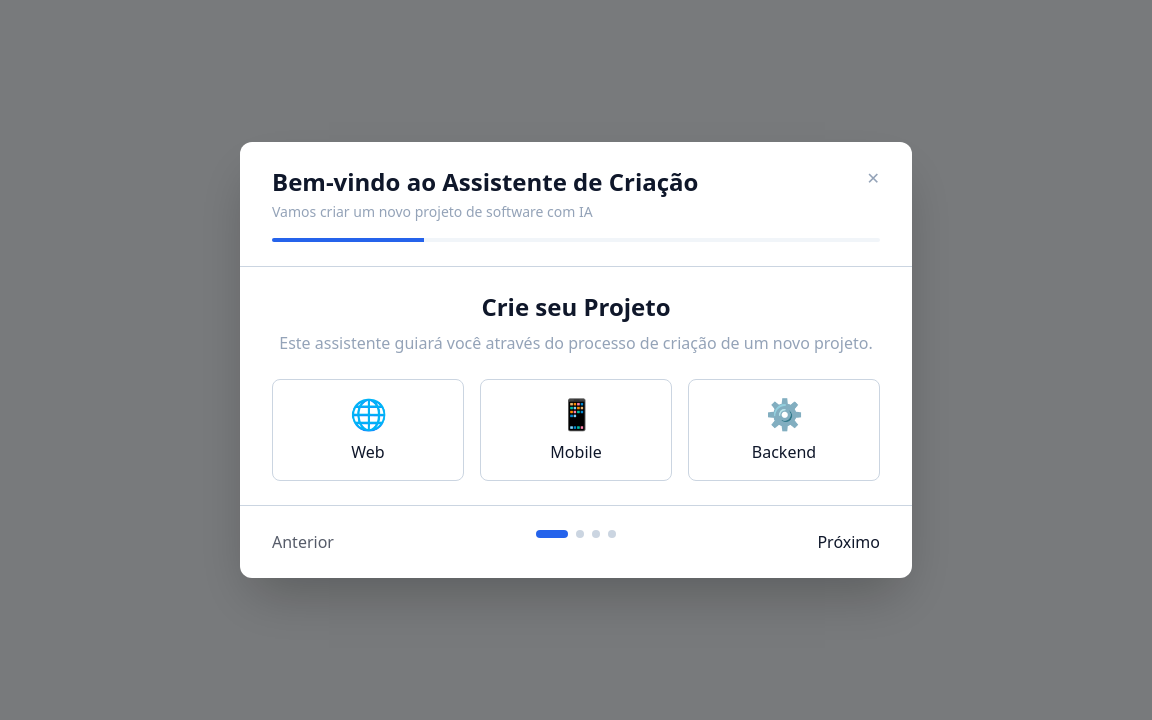
ProjectWizardRefactored › navigates back when clicking Anterior
Click the button "Próximo". click: (849, 542)
box: x1=817 y1=530 x2=880 y2=554
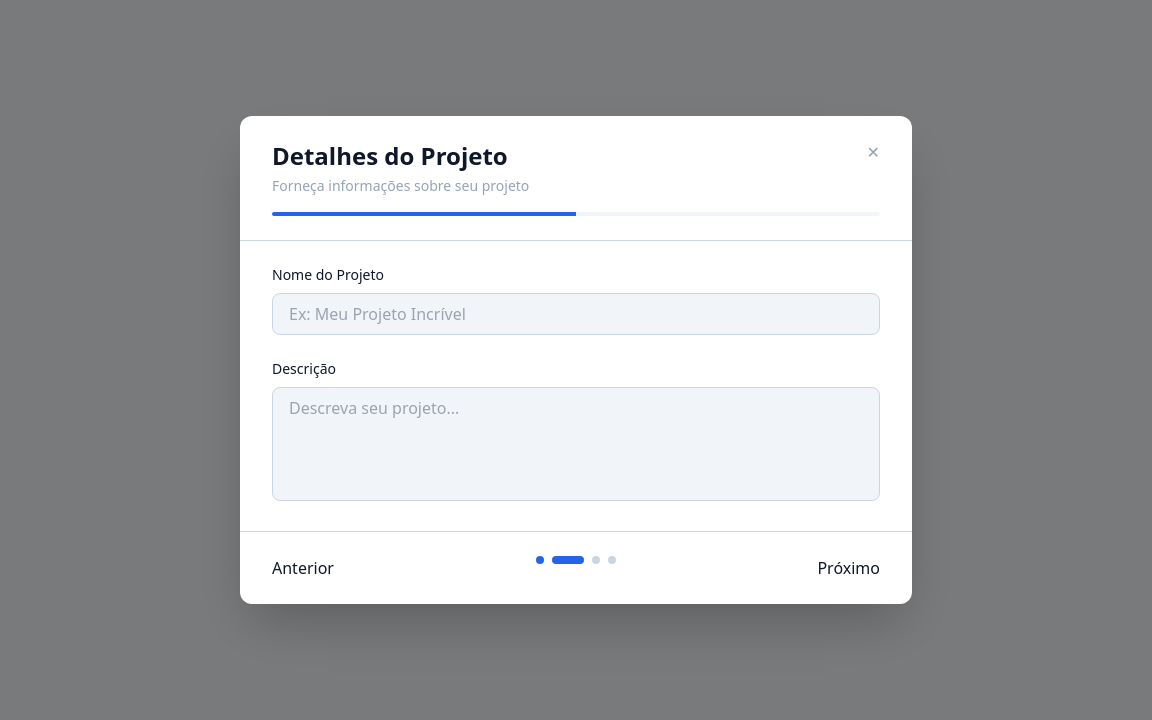
Check: the heading "Detalhes do Projeto" is shown, box x1=272 y1=140 x2=529 y2=172
Click the button "Anterior". click: (303, 568)
box: x1=272 y1=556 x2=334 y2=580
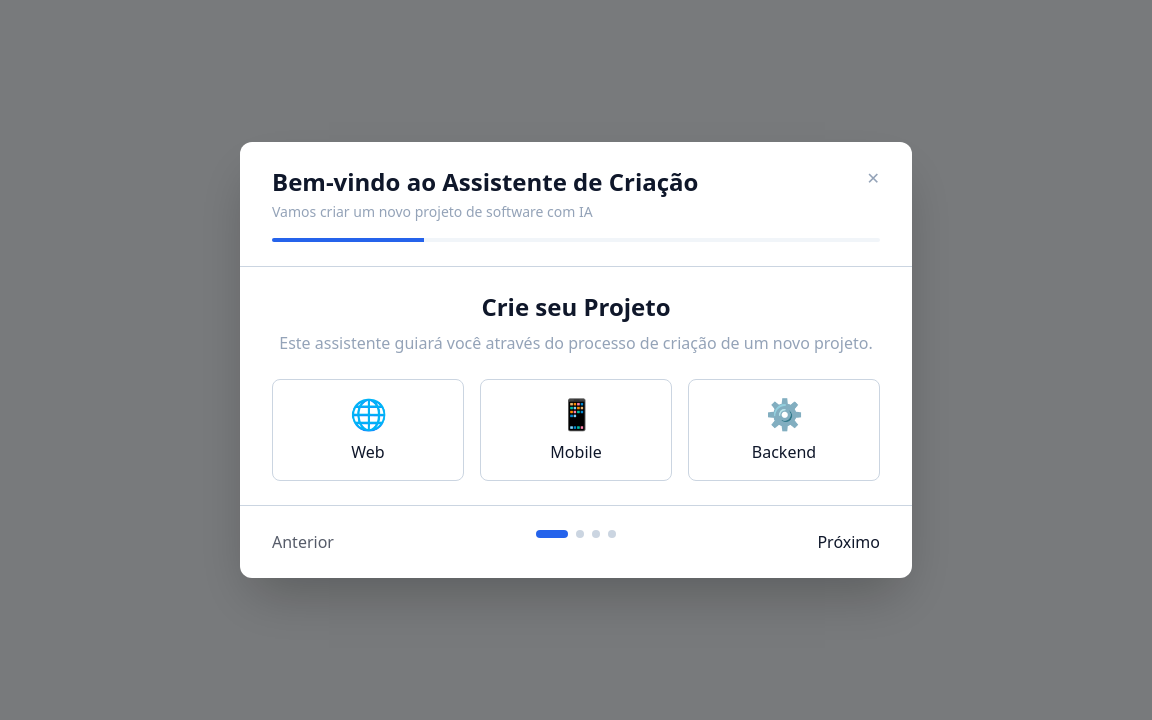
Check: the heading "Bem-vindo ao Assistente de Criação" is shown, box x1=272 y1=166 x2=698 y2=198
